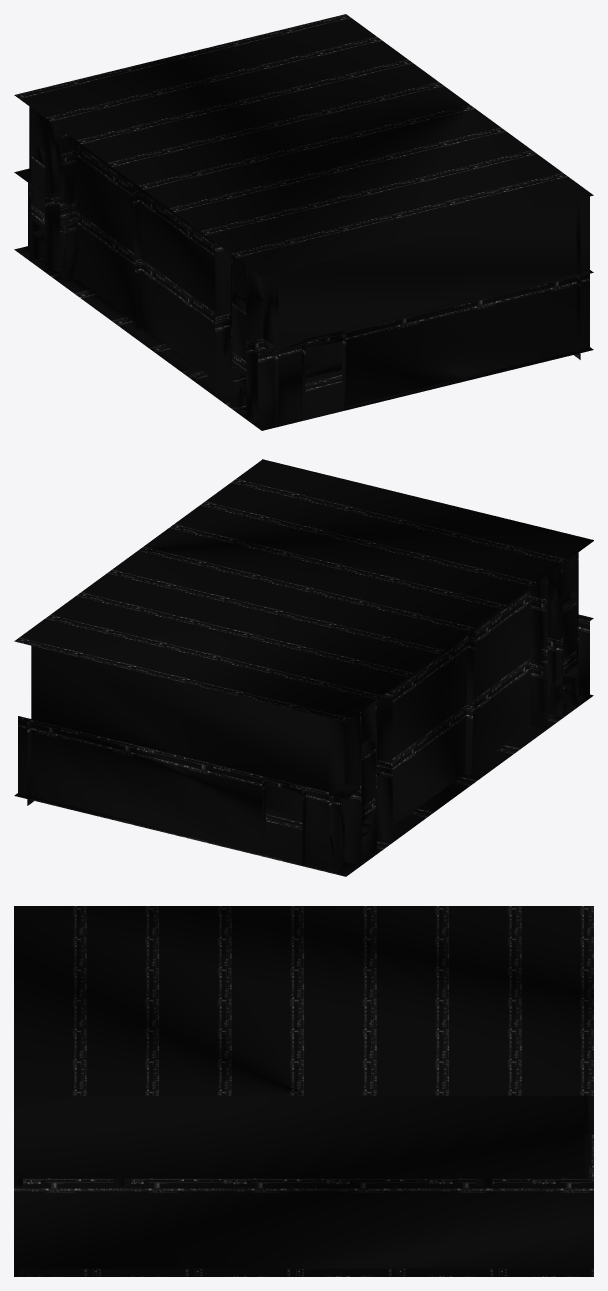
File: room860_opt.obj
The picture shows the model from 3 angles, top to bottom: view 1: azimuth 30°, elevation 25°; view 2: azimuth 150°, elevation 25°; view 3: azimuth 270°, elevation 25°; orthographic projection. The views are drawn at different scales.
Size of the model in its own units: 79.2 by 37.94 by 102.
Materials: 16 (16 with a texture image).
